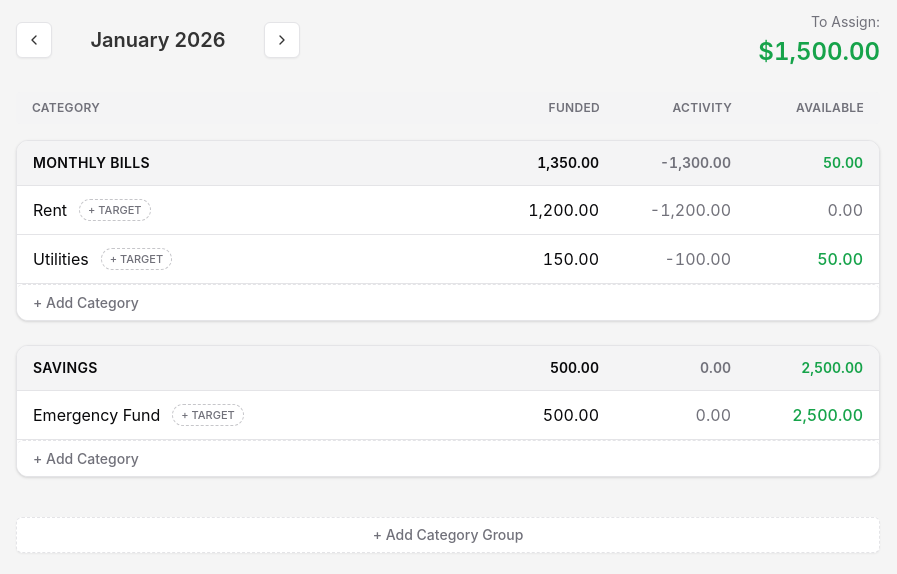
Test: CategoryRow › should cancel editing when Escape is pressed
Expected: the button "Rent" is shown, [25,194,75,226]
Click on the funded amount to start editing
Click the text "1,200.00".
click(564, 210)  # box [528,200,599,220]
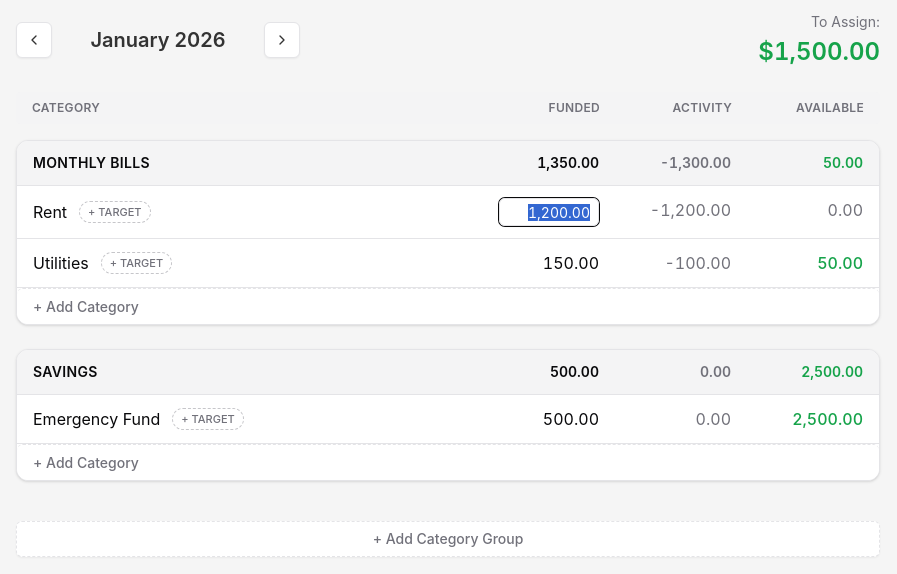
Result: the field is shown at [499,198,599,226]
Press Escape
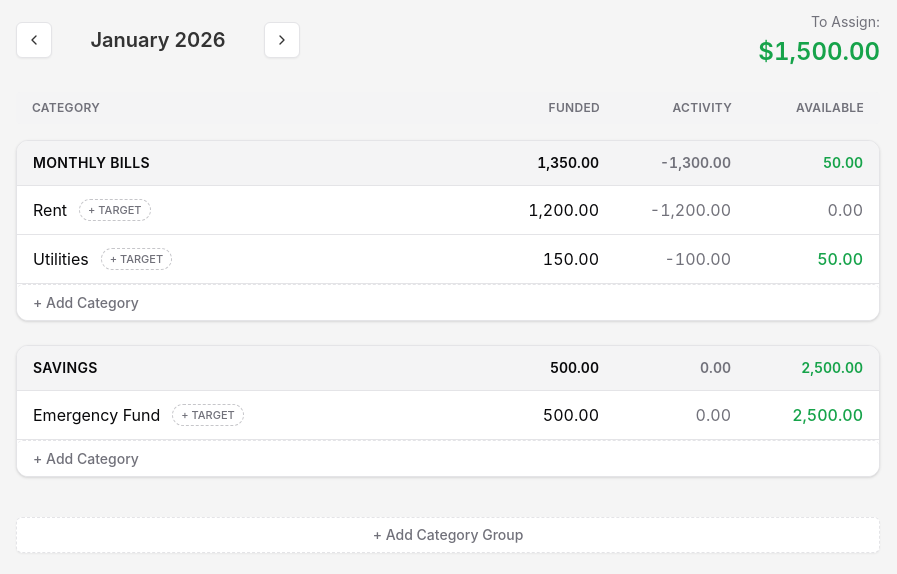
Result: the field is gone
